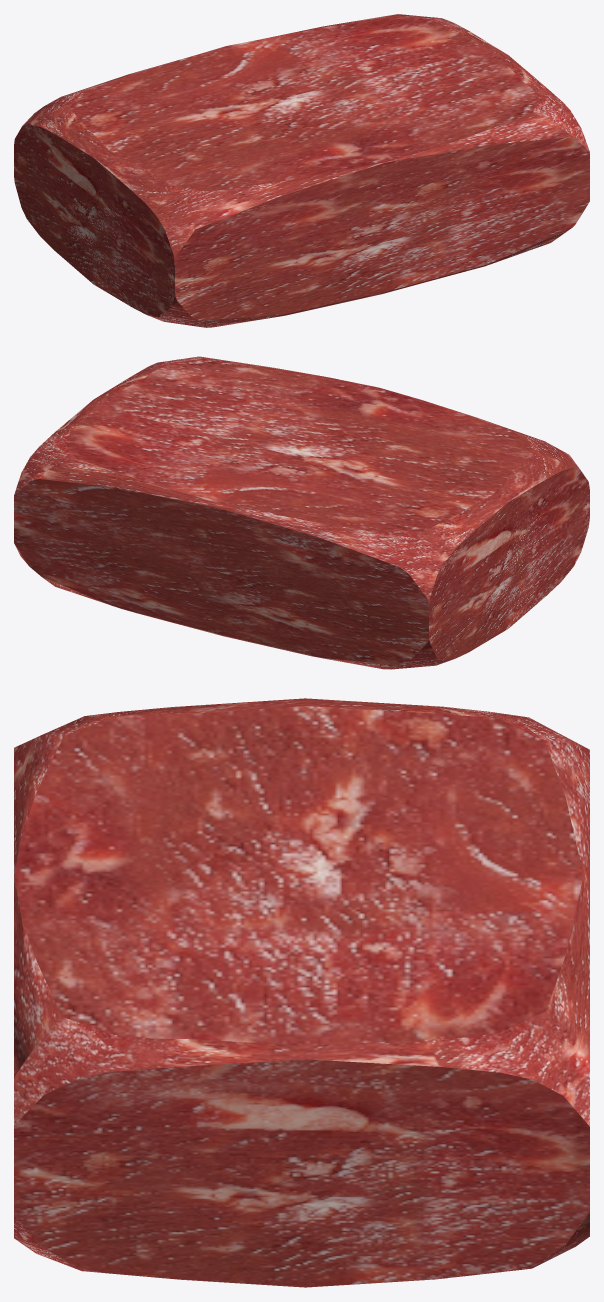
The model's file is MeatBlock2FBX.fbx.
3 renders of one model, top to bottom at view 1: azimuth 30°, elevation 25°; view 2: azimuth 150°, elevation 25°; view 3: azimuth 270°, elevation 25°, orthographic. The views are drawn at different scales.
Visible parts, largest first — view 1: pCube5; view 2: pCube5; view 3: pCube5.
Boxes of the visible parts, box(x1,y1,x2,y2) form: pCube5: box(14, 14, 589, 327); pCube5: box(14, 356, 589, 669); pCube5: box(14, 698, 589, 1287).
Bounding box in the file's own units: 1.28 × 0.3926 × 0.8561.
1 material, 1 textured.
